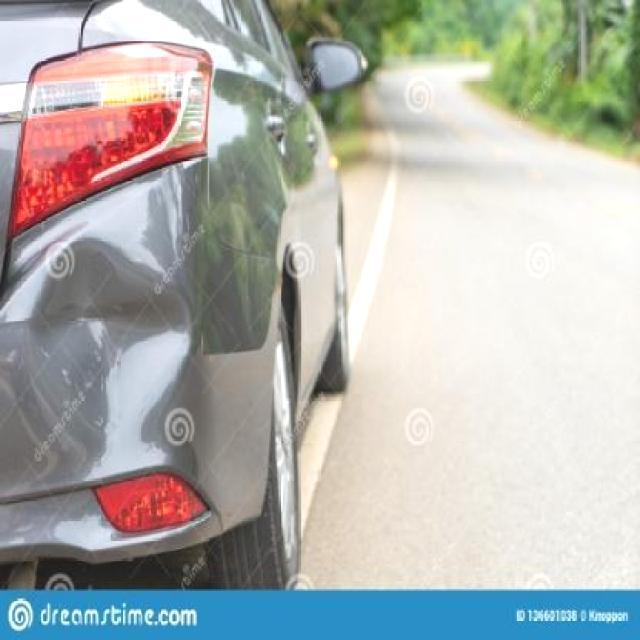minor: (32, 249, 191, 469)
